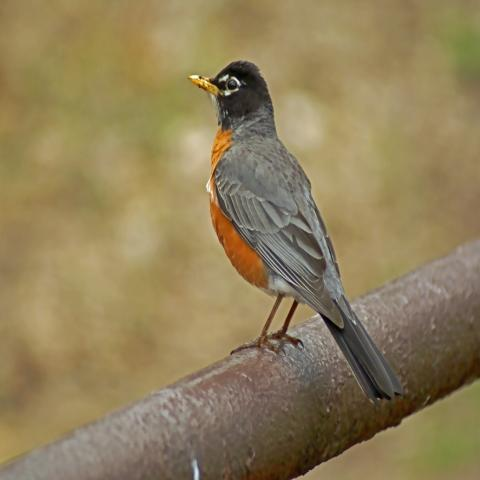bird: (185, 57, 404, 407)
